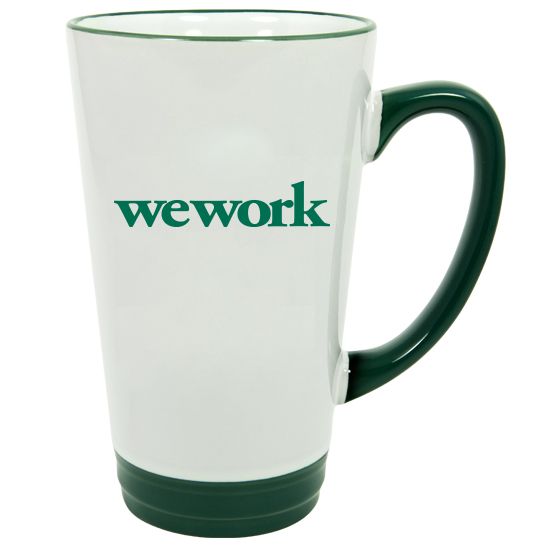wework: (111, 178, 334, 231)
